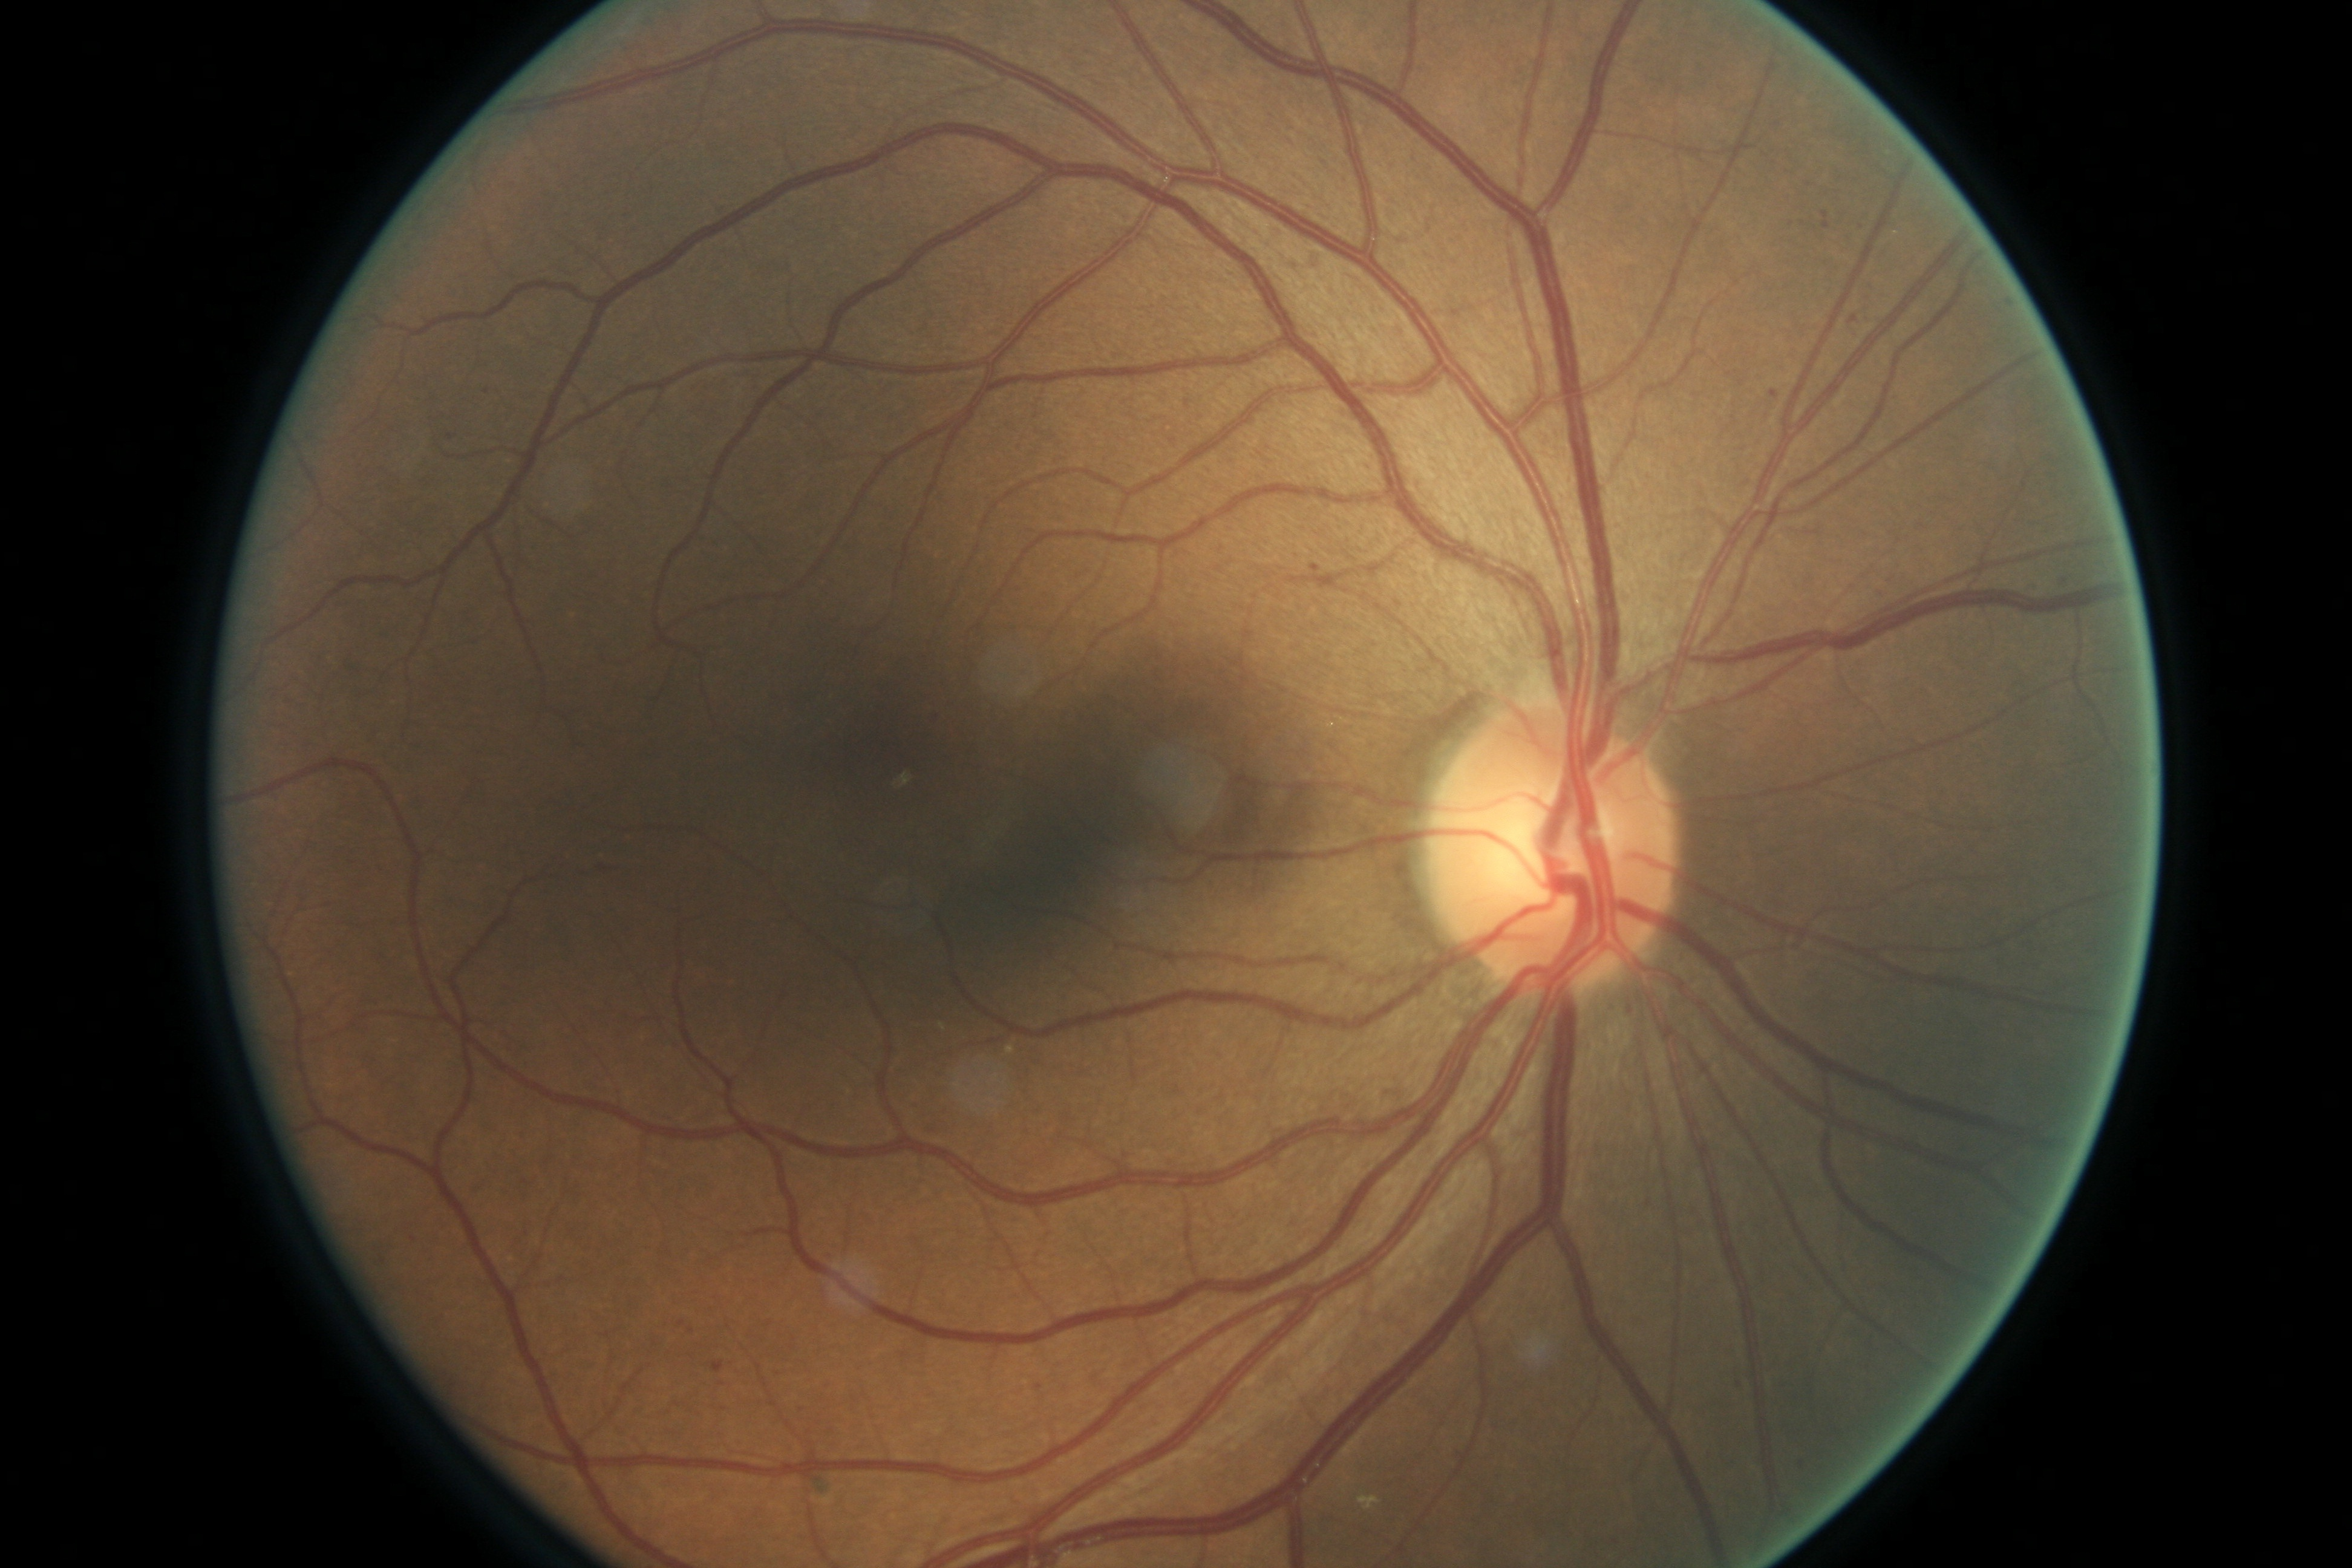Fovea: (781, 661, 962, 842)
OD: (1402, 686, 1694, 1022)
